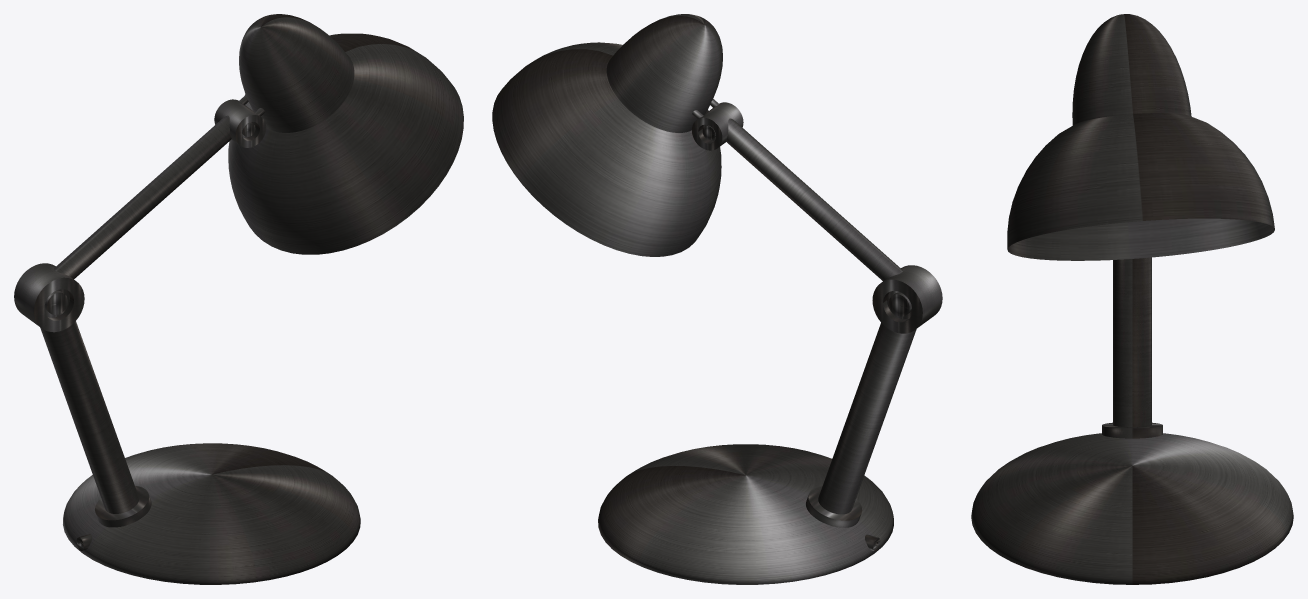
Rendered from lampara_metal.obj.
3 renders of one model, left to right at view 1: azimuth 30°, elevation 25°; view 2: azimuth 150°, elevation 25°; view 3: azimuth 270°, elevation 25°, orthographic. The views are drawn at different scales.
Parts seen in each view (by area): view 1: Sphere_4, Tube_1, Tube, Tube_6, Tube_14, Tube_2; view 2: Sphere_4, Tube_1, Tube, Tube_6, Tube_14, Tube_2; view 3: Sphere_4, Tube_1, Tube.
Boxes of the visible parts, left/top/right/bottom form: Sphere_4: left=228, top=14, right=463, bottom=254; Tube_1: left=63, top=443, right=360, bottom=584; Tube: left=40, top=321, right=139, bottom=513; Tube_6: left=54, top=115, right=231, bottom=279; Tube_14: left=14, top=263, right=84, bottom=332; Tube_2: left=214, top=95, right=266, bottom=147; Sphere_4: left=492, top=14, right=722, bottom=256; Tube_1: left=598, top=444, right=893, bottom=584; Tube: left=818, top=323, right=916, bottom=514; Tube_6: left=726, top=118, right=902, bottom=280; Tube_14: left=872, top=265, right=942, bottom=333; Tube_2: left=692, top=102, right=743, bottom=150; Sphere_4: left=1007, top=14, right=1274, bottom=260; Tube_1: left=971, top=422, right=1293, bottom=584; Tube: left=1113, top=257, right=1151, bottom=427.
Size of the model in its own units: 11.35 by 12.64 by 6.94.
3 materials, 1 textured.
